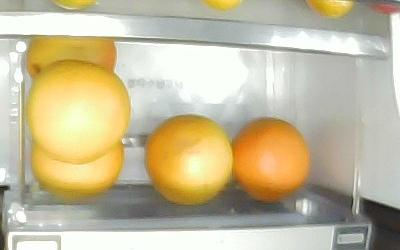grapefruit: (25, 58, 132, 164), (143, 113, 234, 204), (228, 115, 310, 201), (29, 137, 123, 196), (25, 35, 117, 79)
